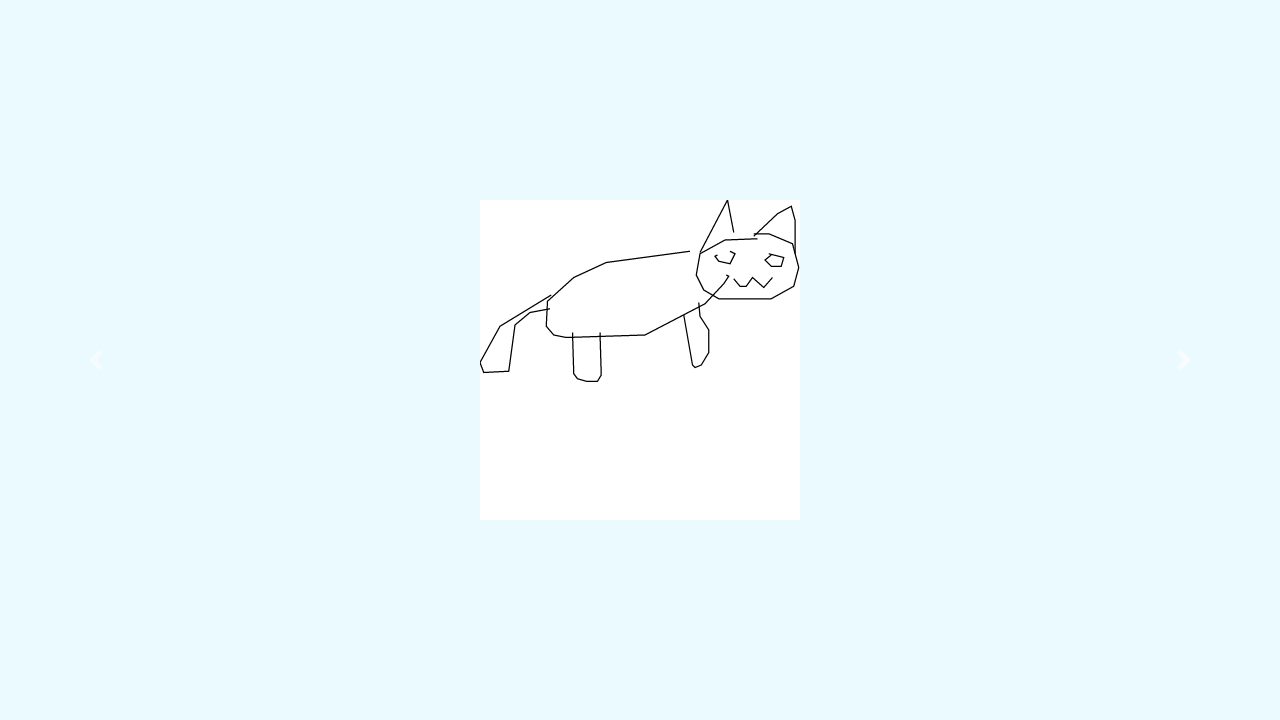cat: (473, 194, 804, 402)
